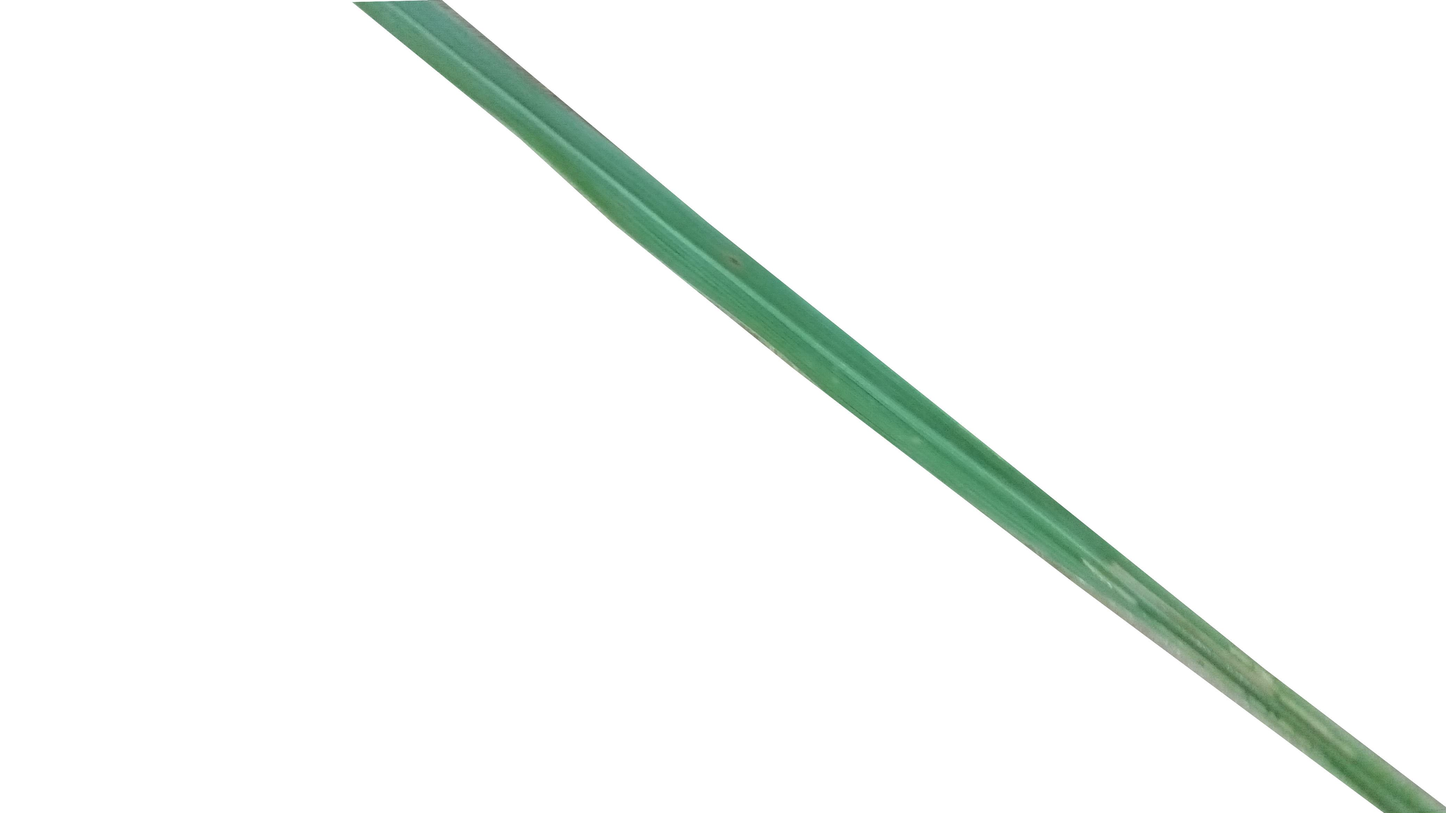Brown spot: (725, 252, 742, 277)
